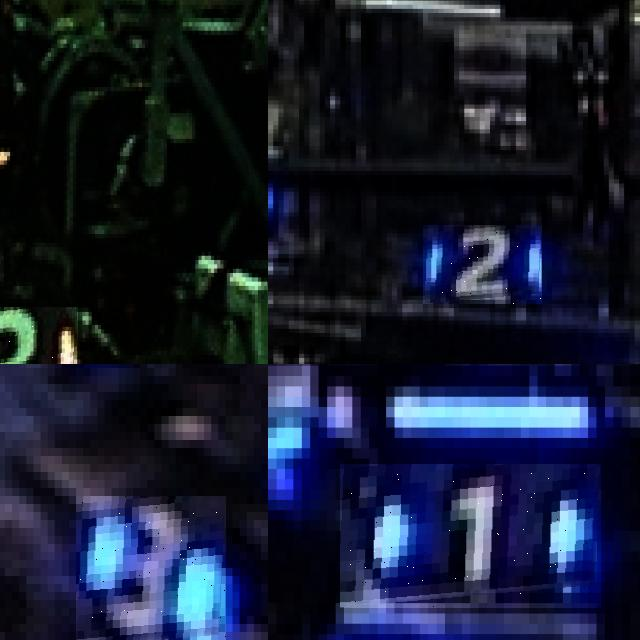B1: (340, 464, 601, 608)
B2: (423, 225, 542, 304)
B3: (76, 496, 225, 640)
R3: (0, 307, 79, 364)
